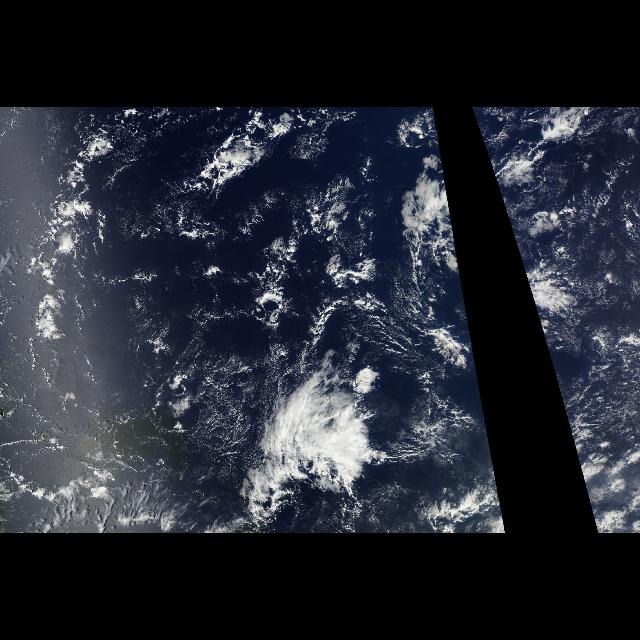Fish: (208, 163, 498, 523), (25, 118, 203, 376), (490, 163, 510, 227)
Sugar: (2, 110, 504, 528), (470, 110, 632, 528)
